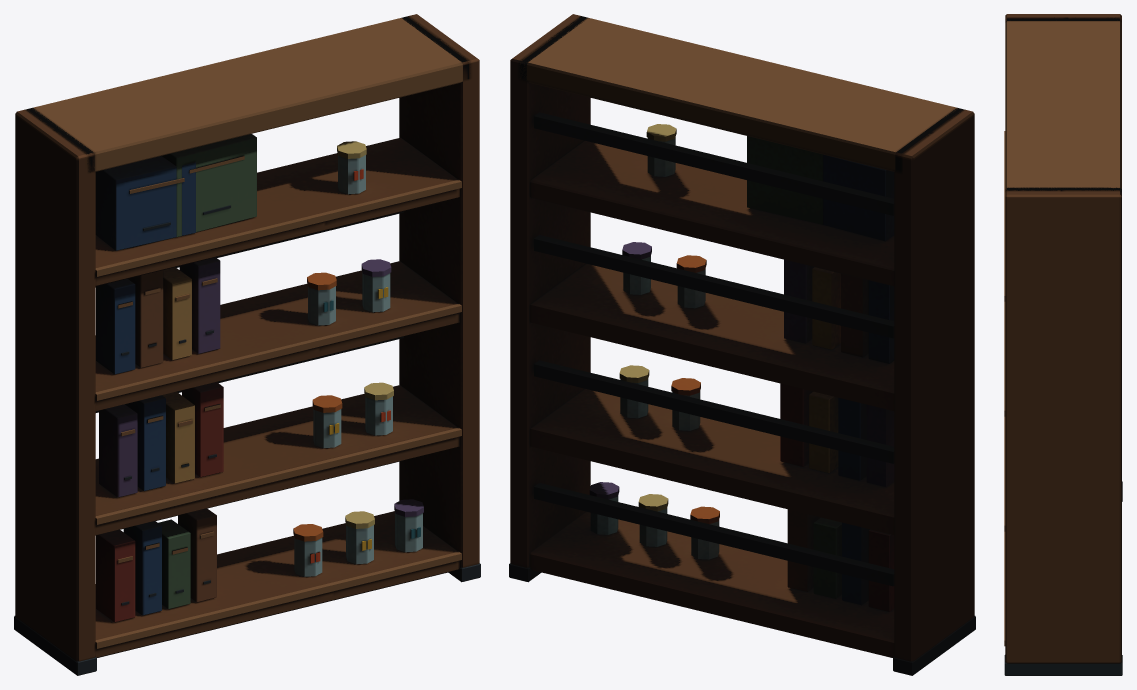
File: 0-20261016-1900-ev019-r03-art-shelving_baked.glb
3 views of the same model, side by side, from view 1: azimuth 30°, elevation 25°; view 2: azimuth 150°, elevation 25°; view 3: azimuth 270°, elevation 25° (orthographic). The views are drawn at different scales.
Parts seen in each view (by area): view 1: SW_Art_Shelving; view 2: SW_Art_Shelving; view 3: SW_Art_Shelving.
Part boxes in pixels (<box>): SW_Art_Shelving: <box>14,14,480,675</box>; SW_Art_Shelving: <box>509,14,975,675</box>; SW_Art_Shelving: <box>1004,14,1122,675</box>.
Size of the model in its own units: 1.48 by 1.82 by 0.4055.
1 material, 1 textured.
